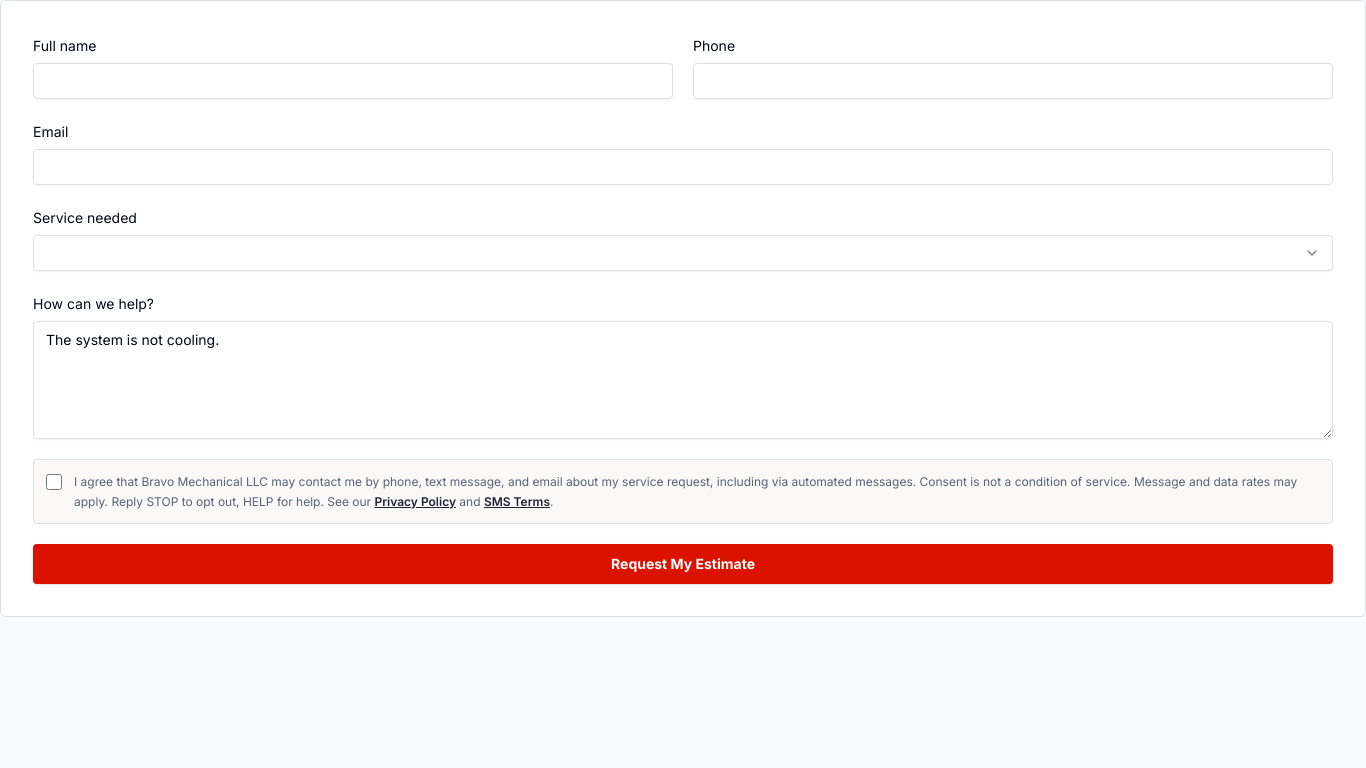
Test: recoverable lead forms › keeps a contact lead protected through pending and failed persistence, then releases it after success
Later steps or results of the test are not shown.
Type "Jordan Lee" into the field labelled "Full name" at x=353, y=81, box [33, 63, 673, 99]
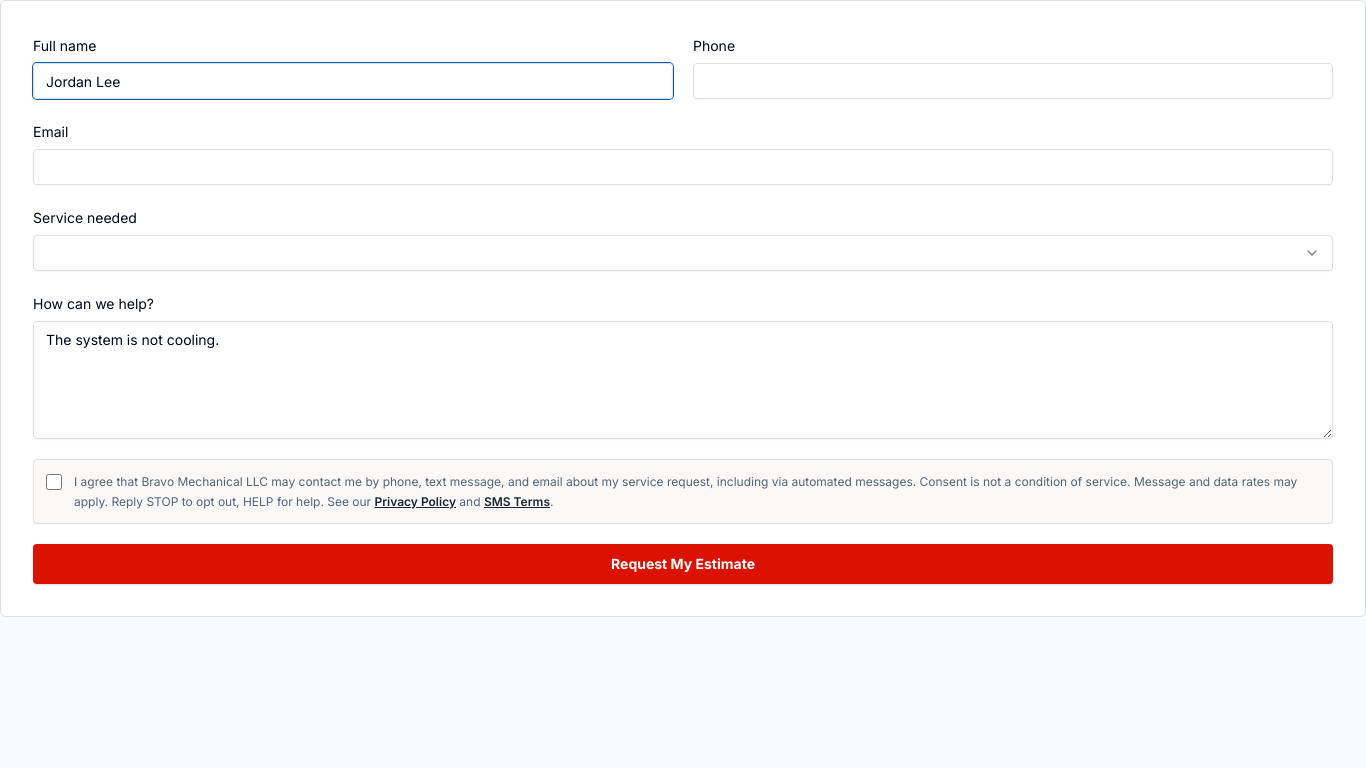
Type "9145551234" into the field labelled "Phone" at x=1013, y=81, box [693, 63, 1333, 99]
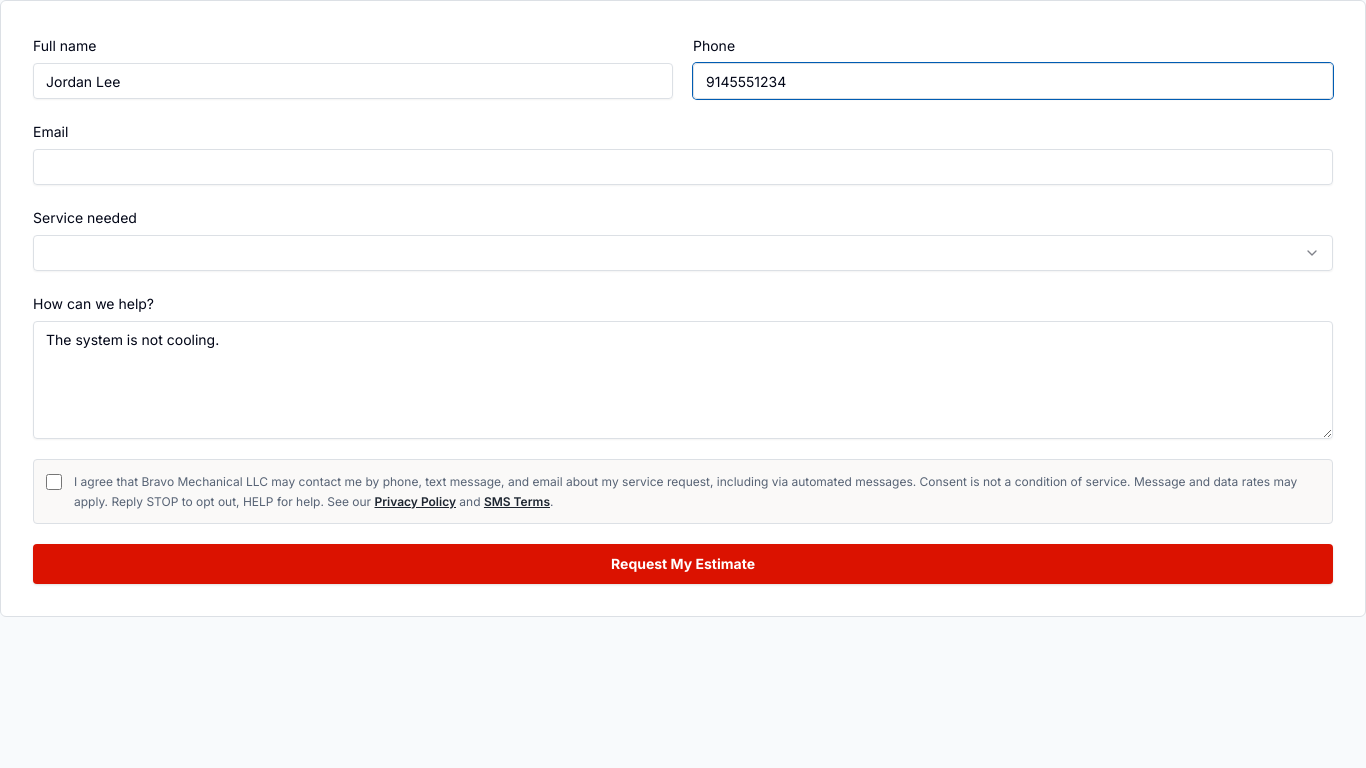
Type "jordan@example.com" into the field labelled "Email" at x=683, y=167, box [33, 149, 1333, 185]
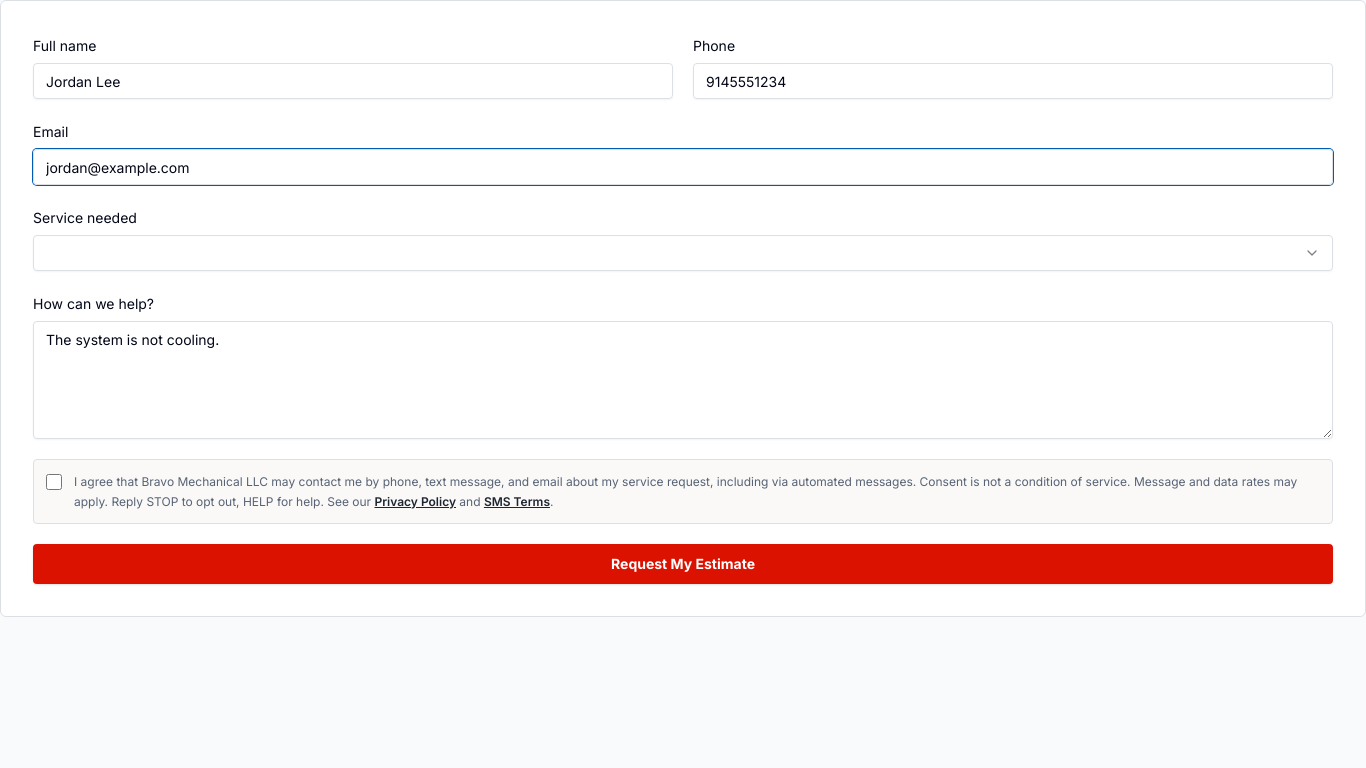
Click the checkbox at x=54, y=482, box [46, 474, 62, 490]
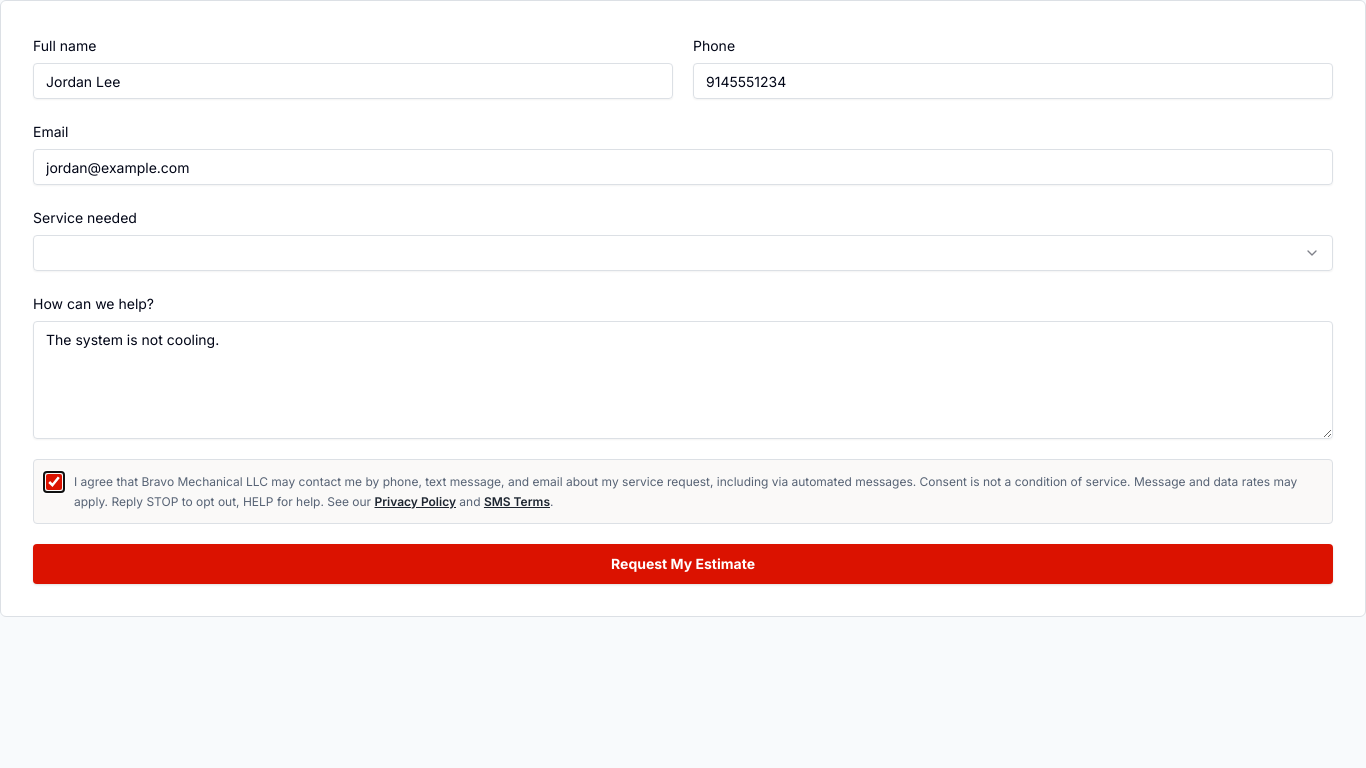
Click the button "Request My Estimate" at x=683, y=564, box [33, 544, 1333, 584]
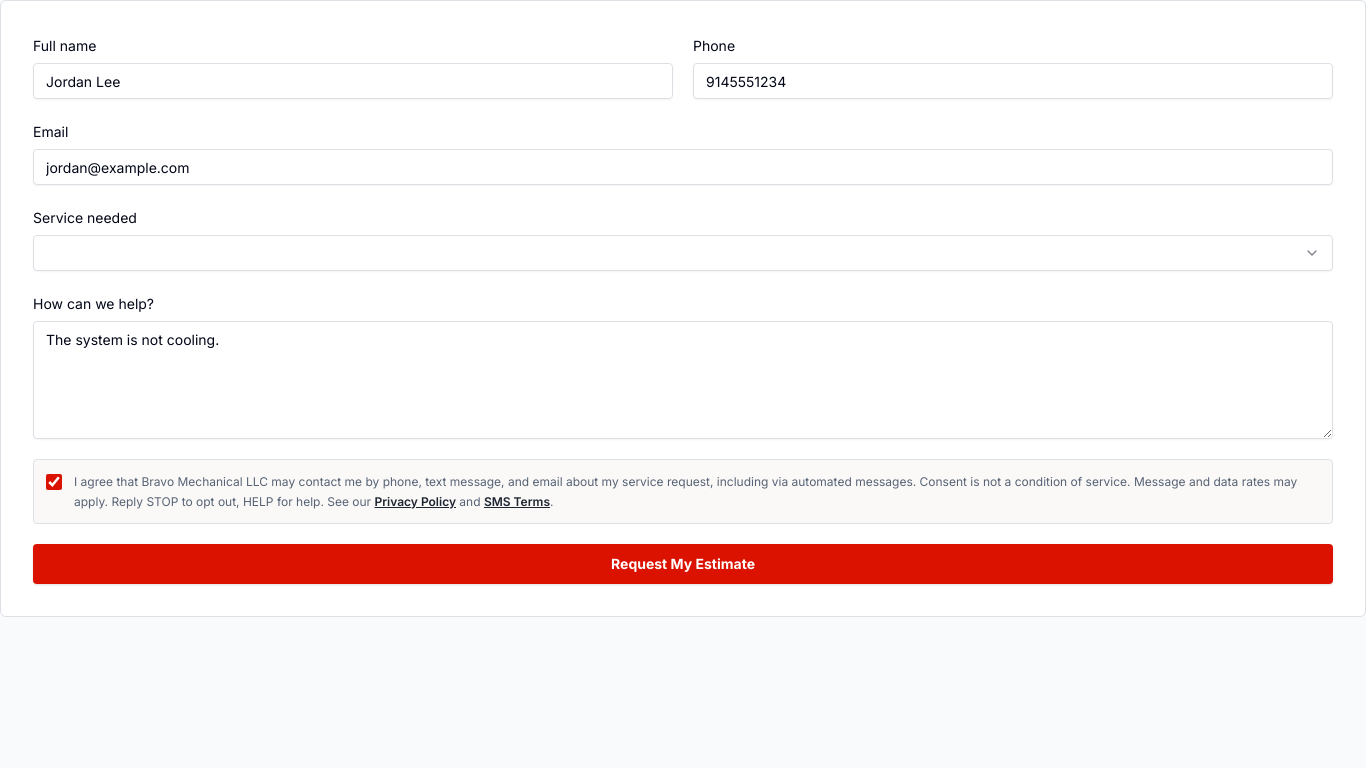
Click the button "Request My Estimate" at x=683, y=564, box [33, 544, 1333, 584]
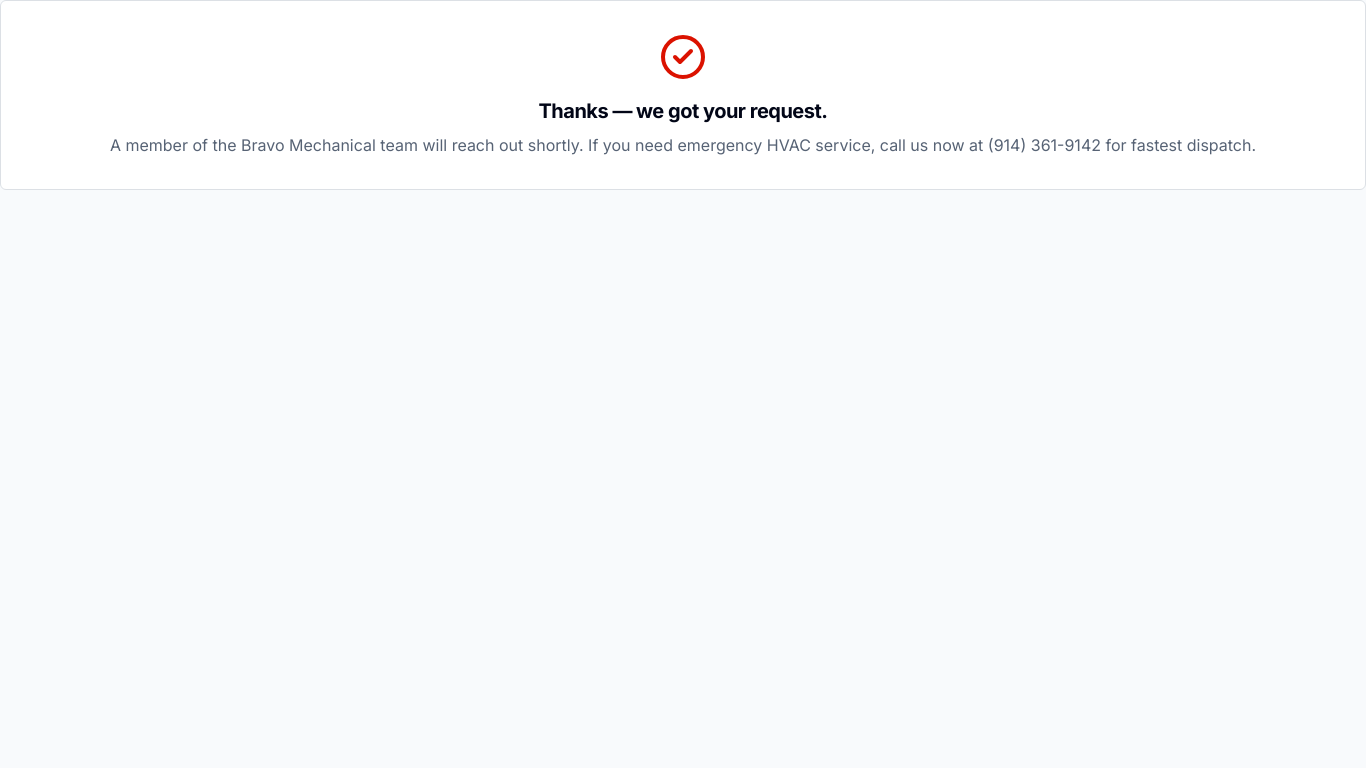
Expected: the heading "Thanks — we got your request." is shown, [538, 99, 828, 123]
